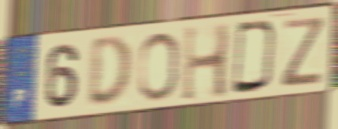6: (45, 42, 81, 112)
D: (85, 33, 135, 109), (230, 19, 279, 96)
H: (180, 21, 233, 105)
O: (136, 30, 180, 103)
Z: (279, 15, 326, 90)
